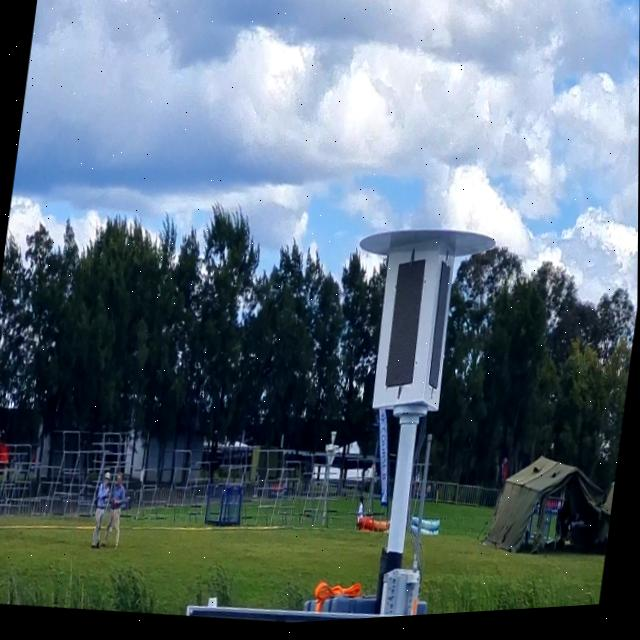led: (378, 253, 436, 403)
